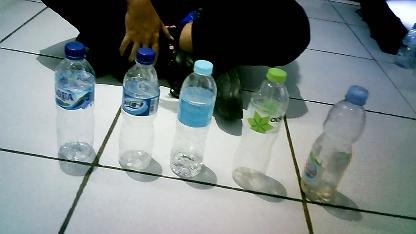Plastic Bottle: (298, 82, 372, 206), (231, 64, 291, 194), (47, 38, 105, 166), (116, 43, 162, 174), (170, 59, 218, 184)
